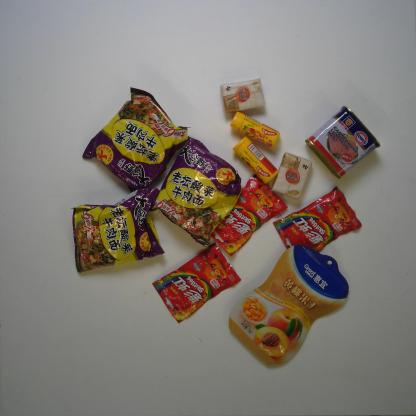Candy: (152, 240, 242, 326), (209, 172, 290, 258), (272, 186, 362, 259), (228, 135, 279, 186), (229, 108, 282, 150)
Canned Food: (306, 101, 384, 182)
Dried Fruit: (223, 239, 351, 368)
Instant Noodles: (78, 82, 190, 198), (152, 134, 247, 250), (68, 184, 164, 274)
Tissue: (269, 151, 314, 199), (218, 76, 271, 116)
